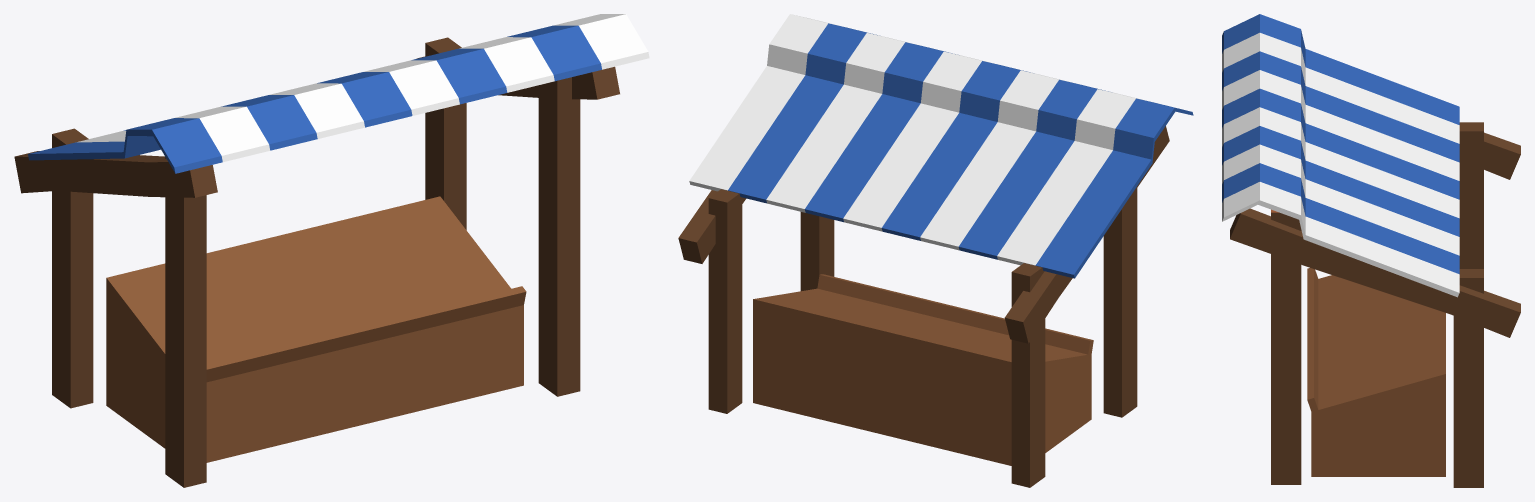
Rendered from stand.fbx.
3 views of the same model, side by side, from view 1: azimuth 30°, elevation 25°; view 2: azimuth 150°, elevation 25°; view 3: azimuth 270°, elevation 25° (orthographic). The views are drawn at different scales.
Parts seen in each view (by area): view 1: stand; view 2: stand; view 3: stand.
Part boxes in pixels (bbox=[...]): stand: bbox=[14, 14, 649, 487]; stand: bbox=[678, 14, 1193, 487]; stand: bbox=[1222, 14, 1520, 487].
Bounding box in the file's own units: 402 × 306 × 273.
Materials: 1 (1 with a texture image).
